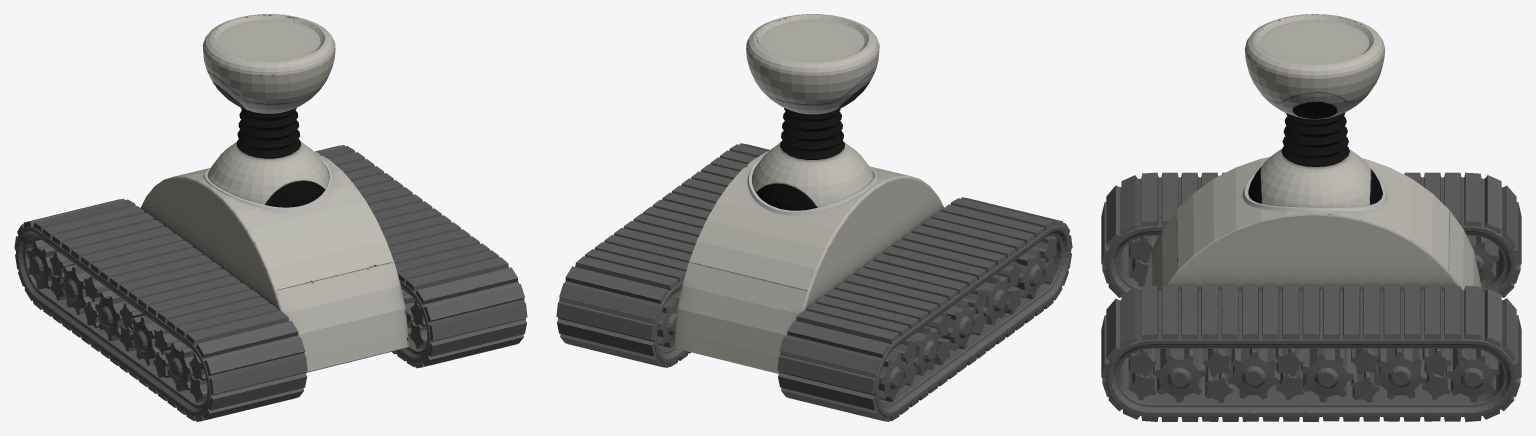
File: Robot Leg 7.gltf.glb
3 renders of one model, left to right at view 1: azimuth 30°, elevation 25°; view 2: azimuth 150°, elevation 25°; view 3: azimuth 270°, elevation 25°, orthographic. The views are drawn at different scales.
Bounding box in the file's own units: 0.1533 × 0.1311 × 0.1656.
Materials: 1 (1 with a texture image).
